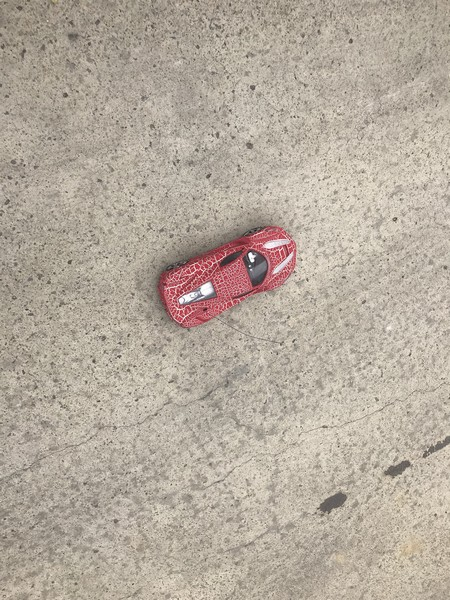RC: (157, 224, 300, 331)
